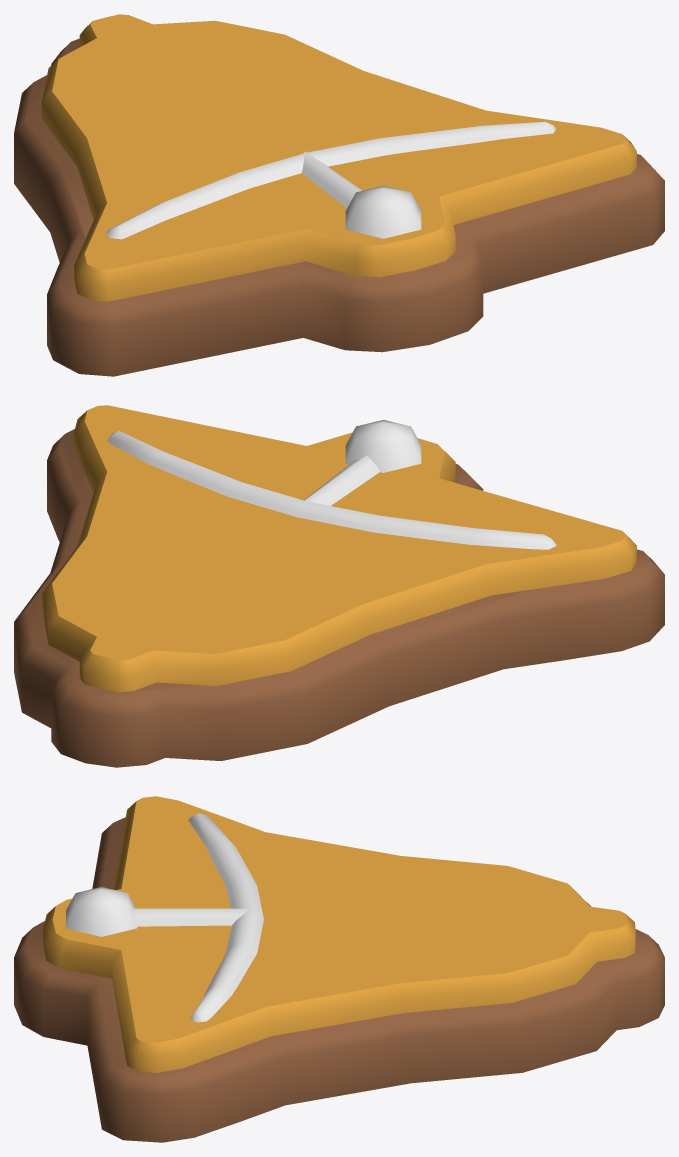
Rendered from CookieBell_01.fbx.
3 renders of one model, top to bottom at view 1: azimuth 30°, elevation 25°; view 2: azimuth 150°, elevation 25°; view 3: azimuth 270°, elevation 25°, orthographic. The views are drawn at different scales.
Visible parts, largest first — view 1: CookieBell_01; view 2: CookieBell_01; view 3: CookieBell_01.
Part boxes in pixels (left/top/right/bottom): CookieBell_01: left=14, top=14, right=664, bottom=376; CookieBell_01: left=14, top=405, right=664, bottom=767; CookieBell_01: left=14, top=796, right=664, bottom=1142.
Bounding box in the file's own units: 0.1374 × 0.0269 × 0.1374.
